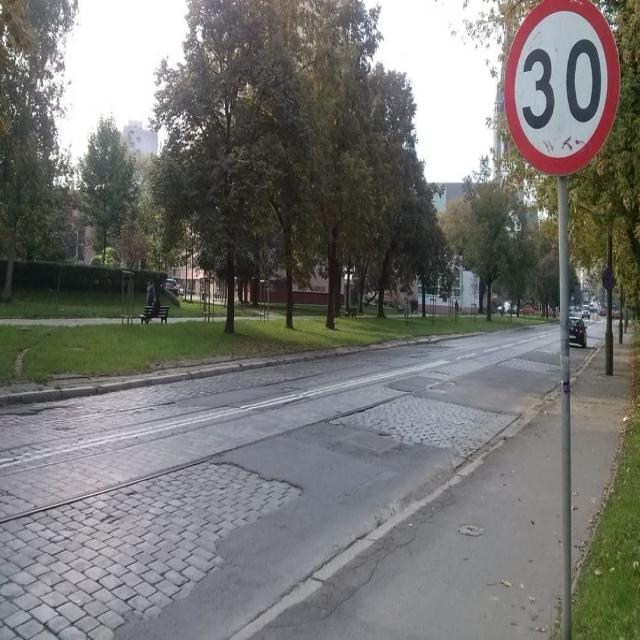Speed Limit -30-: (522, 38, 602, 130)
